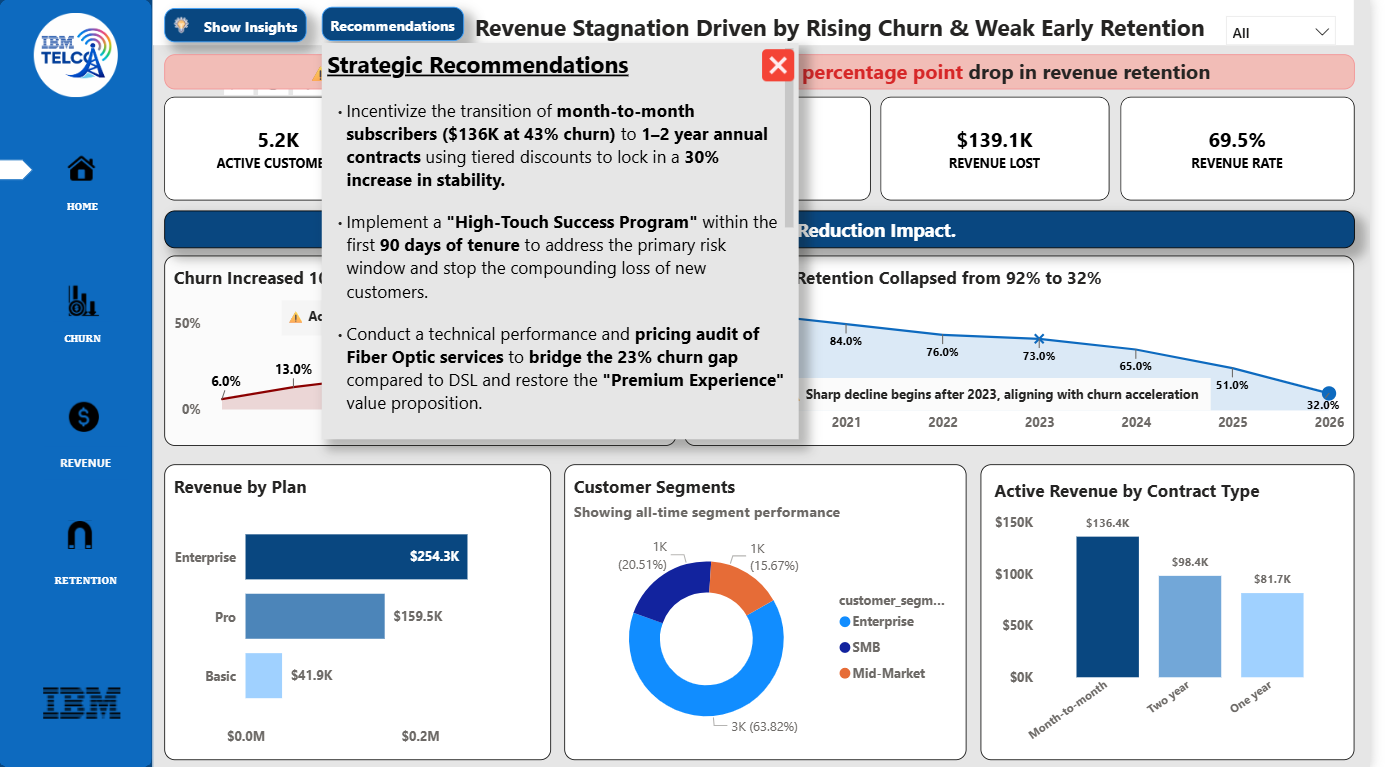

This screenshot's page, from the dashboard's own definition file:
{"tool":"powerbi","page":{"name":"Executive Overview","canvas":[1280,720],"ordinal":0},"visuals":[{"type":"clusteredBarChart","title":"Revenue by Plan","fields":{"Category":["revenue_by_plan.plan_name"],"Y":["Sum(revenue_by_plan.revenue_per_plan)"]},"box":[154.6,434.4,360.7,276.1],"z":0},{"type":"clusteredColumnChart","title":"Active Revenue by Contract Type","fields":{"Category":["revenue contract.CONTRACT"],"Y":["Sum(revenue contract.ACTIVE_REVENUE)"]},"box":[916.6,434.4,348.5,276.1],"z":1000},{"type":"lineChart","title":"Churn Increased 10x Since 2020","fields":{"Y":["Sum(monthly churn.churn_rate)"],"Category":["monthly churn.date"]},"box":[154.6,240.5,477.3,177.9],"z":2000},{"type":"lineChart","title":"🔻 Revenue Retention Collapsed from 92% to 32%","fields":{"Y":["Sum(revenue retention.revenue_rate)"],"Category":["revenue retention.date"]},"box":[640.5,240.5,624.5,177.9],"z":3000},{"type":"shape","box":[0,0,144.8,720.2],"z":4000},{"type":"actionButton","box":[51.5,246.6,57.7,69.9],"z":5000},{"type":"actionButton","box":[51.5,360.7,57.7,61.4],"z":6000},{"type":"textbox","box":[51.5,177.9,55.2,33.1],"z":7000},{"type":"textbox","box":[51.5,301.8,55.2,33.1],"z":8000},{"type":"textbox","box":[42.9,418.4,77.3,30.7],"z":9000},{"type":"actionButton","box":[51.5,476.1,55.2,50.3],"z":10000},{"type":"textbox","box":[42.9,526.4,77.3,39.3],"z":11000},{"type":"image","box":[22.1,618.4,111.7,82.2],"z":12000},{"type":"slicer","fields":{"Values":["ARR.YEAR"]},"box":[1128.8,0,136.2,44.2],"z":13000},{"type":"image","box":[22.1,13.5,100.6,78.5],"z":14000},{"type":"cardVisual","fields":{"Data":["CUSTOMERS.KPI Card Display"]},"box":[154.6,92,213.5,96.9],"z":15000},{"type":"textbox","box":[144.8,0,984.1,44.2],"z":16000},{"type":"cardVisual","fields":{"Data":["ARR.KPI CARD ARR"]},"box":[375.5,92,213.5,96.9],"z":17000},{"type":"cardVisual","fields":{"Data":["churn per year - churn per year.KPI CR"]},"box":[597.5,92,216,96.9],"z":18000},{"type":"cardVisual","fields":{"Data":["annual churn mrr.kpi churn mrr"]},"box":[823.3,92,213.5,96.9],"z":19000},{"type":"cardVisual","fields":{"Data":["revenue rate.kpi rr"]},"box":[1046.6,92,218.4,96.9],"z":20000},{"type":"textbox","box":[728.8,354,402.5,30.7],"z":21000},{"type":"textbox","box":[265,282.2,207.4,33.1],"z":22000},{"type":"actionButton","box":[154.6,198,1110.4,35.6],"z":23000},{"type":"actionButton","title":"recom button","box":[301.8,8.6,132.5,31.9],"z":24000},{"type":"actionButton","title":"insight button","box":[154.6,9,132.5,31.9],"z":25000},{"type":"textbox","box":[154.6,52,1110.4,33.1],"z":27000},{"type":"actionButton","box":[49.1,127.6,57.7,66.3],"z":33000},{"type":"shape","box":[0,150.9,33,19.6],"z":34000},{"type":"donutChart","title":"Customer Segments","fields":{"Y":["Sum(CUSTOMER SEGMENTS.active_customers)"],"Category":["CUSTOMER SEGMENTS.customer_segment"]},"box":[527.6,434.4,375.5,276.1],"z":35000}]}

Visuals, with their boxes on the page's 1280x720 design canvas (x1, y1, x2, y2). These are canvas units, not pixel positions in the 1385x767 screenshot, which may show the page scaled, cropped or inside an application window:
"Revenue by Plan" clusteredBarChart: rect(155, 434, 515, 710)
"Active Revenue by Contract Type" clusteredColumnChart: rect(917, 434, 1265, 710)
"Churn Increased 10x Since 2020" lineChart: rect(155, 240, 632, 418)
"🔻 Revenue Retention Collapsed from 92% to 32%" lineChart: rect(640, 240, 1265, 418)
shape: rect(0, 0, 145, 720)
actionButton: rect(52, 247, 109, 316)
actionButton: rect(52, 361, 109, 422)
textbox: rect(52, 178, 107, 211)
textbox: rect(52, 302, 107, 335)
textbox: rect(43, 418, 120, 449)
actionButton: rect(52, 476, 107, 526)
textbox: rect(43, 526, 120, 566)
image: rect(22, 618, 134, 701)
slicer - ARR.YEAR: rect(1129, 0, 1265, 44)
image: rect(22, 14, 123, 92)
cardVisual - CUSTOMERS.KPI Card Display: rect(155, 92, 368, 189)
textbox: rect(145, 0, 1129, 44)
cardVisual - ARR.KPI CARD ARR: rect(376, 92, 589, 189)
cardVisual - churn per year - churn per year.KPI CR: rect(598, 92, 814, 189)
cardVisual - annual churn mrr.kpi churn mrr: rect(823, 92, 1037, 189)
cardVisual - revenue rate.kpi rr: rect(1047, 92, 1265, 189)
textbox: rect(729, 354, 1131, 385)
textbox: rect(265, 282, 472, 315)
actionButton: rect(155, 198, 1265, 234)
"recom button" actionButton: rect(302, 9, 434, 40)
"insight button" actionButton: rect(155, 9, 287, 41)
textbox: rect(155, 52, 1265, 85)
actionButton: rect(49, 128, 107, 194)
shape: rect(0, 151, 33, 170)
"Customer Segments" donutChart: rect(528, 434, 903, 710)
